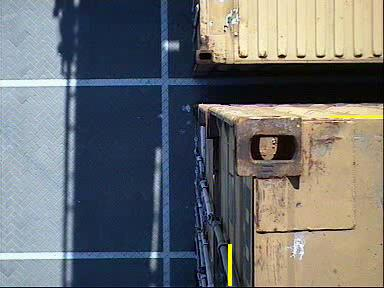groundmarker_2: (184, 151, 222, 216)
